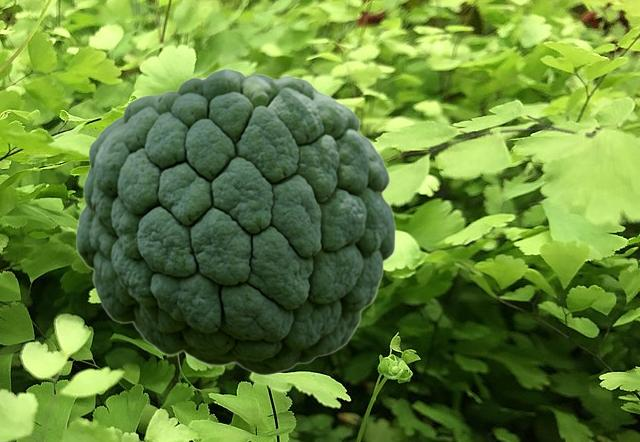atis: (75, 68, 395, 375)
